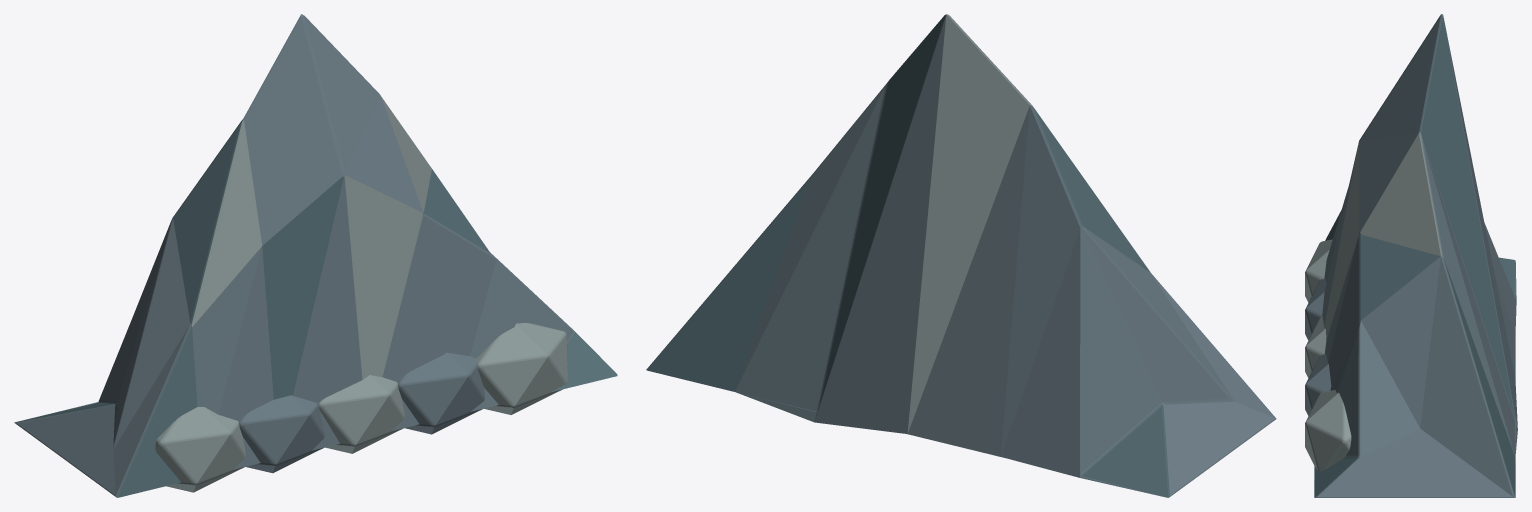
Rendered from cliff_chunk.glb.
3 renders of one model, left to right at view 1: azimuth 30°, elevation 25°; view 2: azimuth 150°, elevation 25°; view 3: azimuth 270°, elevation 25°, orthographic. The views are drawn at different scales.
Visible parts, largest first — view 1: BrokenRidgeline, TalusStone, TalusStone.001; view 2: BrokenRidgeline; view 3: BrokenRidgeline, TalusStone, TalusStone.001.
Part boxes in pixels (x1=…): BrokenRidgeline: x1=14, y1=14, x2=617, y2=497; TalusStone: x1=155, y1=323, x2=567, y2=492; TalusStone.001: x1=238, y1=352, x2=484, y2=473; BrokenRidgeline: x1=646, y1=14, x2=1276, y2=497; BrokenRidgeline: x1=1314, y1=14, x2=1517, y2=497; TalusStone: x1=1305, y1=239, x2=1351, y2=471; TalusStone.001: x1=1305, y1=278, x2=1331, y2=415.
Bounding box in the file's own units: 7.58 × 5.81 × 2.86.
